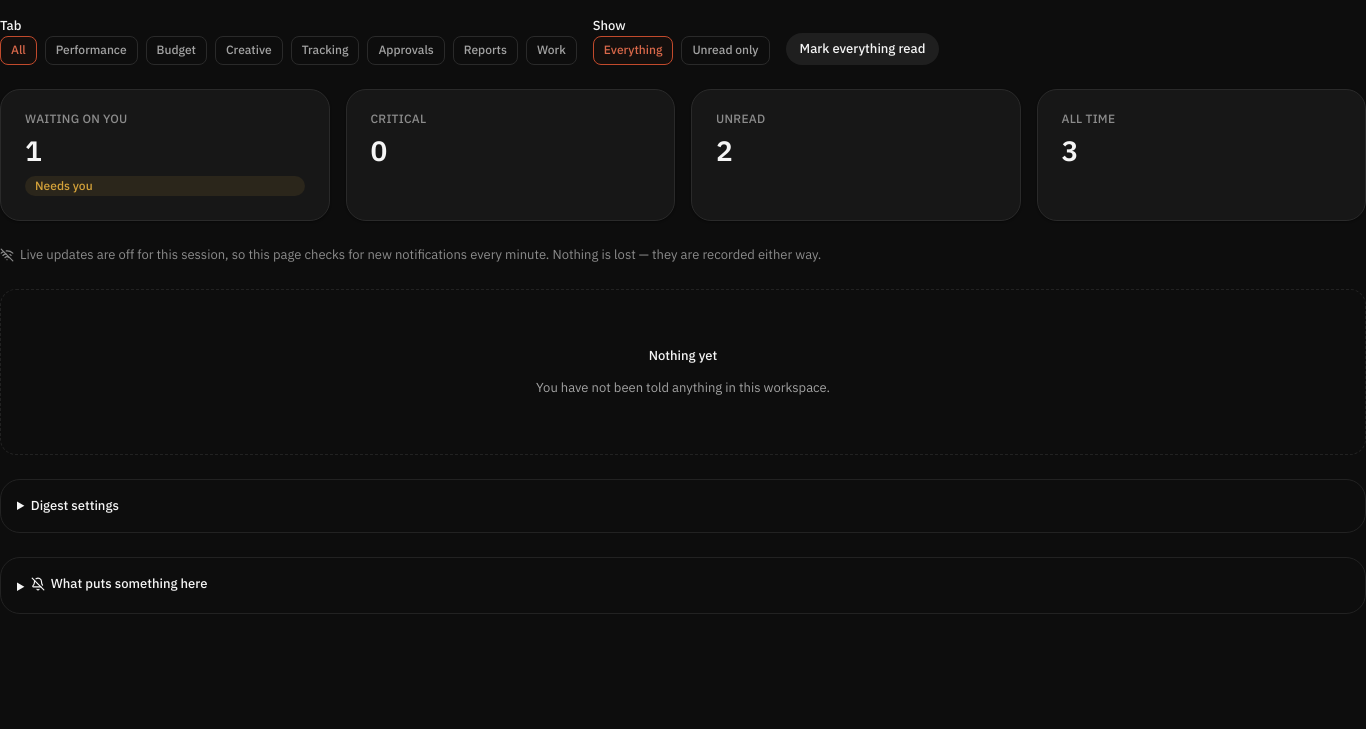
Test: the notification centre › saves digest settings, and says which channels are still waiting on a credential
Expected: the element named "Notification summary" is shown, x1=0 y1=89 x2=1365 y2=221
Click the heading "Digest settings" at [75, 506], box x1=31 y1=496 x2=119 y2=515
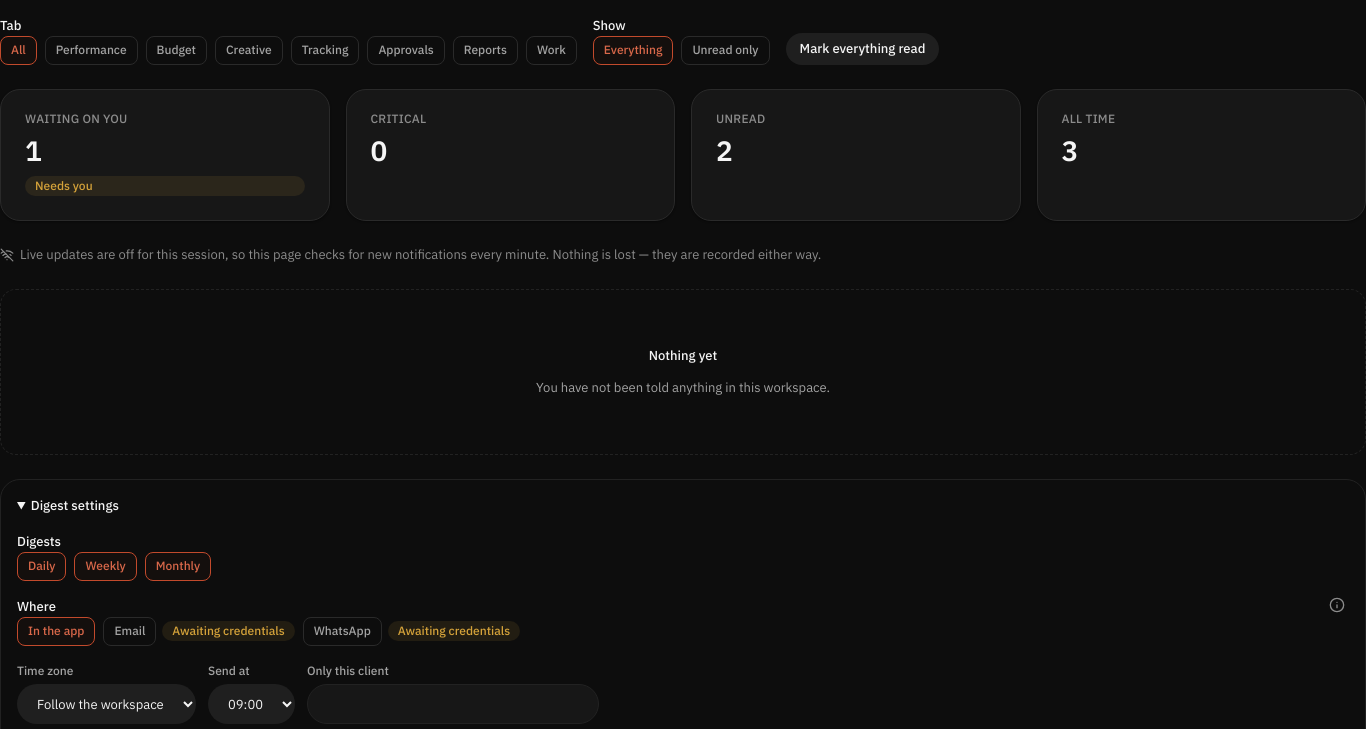
Result: the text "Awaiting credentials" is shown 2 times at x1=162 y1=621 x2=295 y2=641; x1=388 y1=621 x2=520 y2=641
Click the button "Weekly" at [106, 567], box x1=74 y1=552 x2=137 y2=581
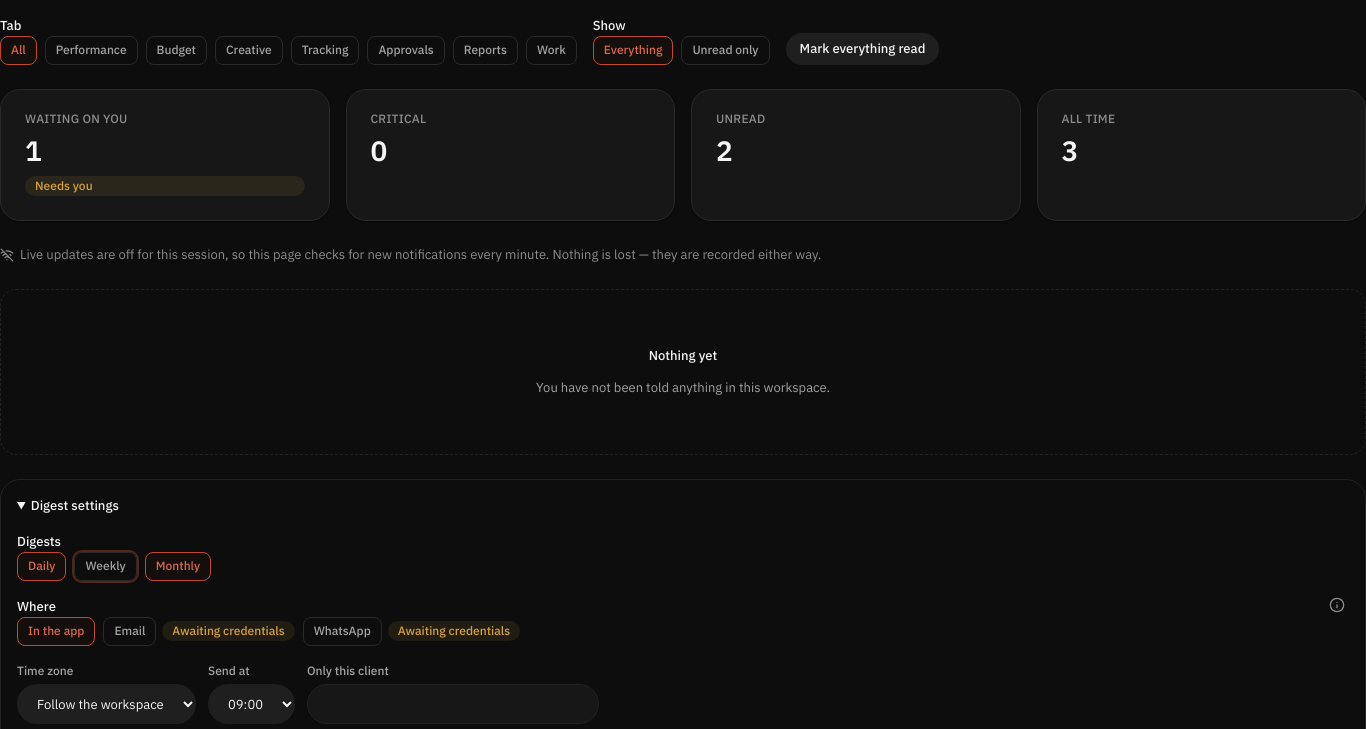
Select "07:00" in the dropdown labelled "Send at" at [252, 704], box x1=208 y1=684 x2=295 y2=724
(page scrolled)
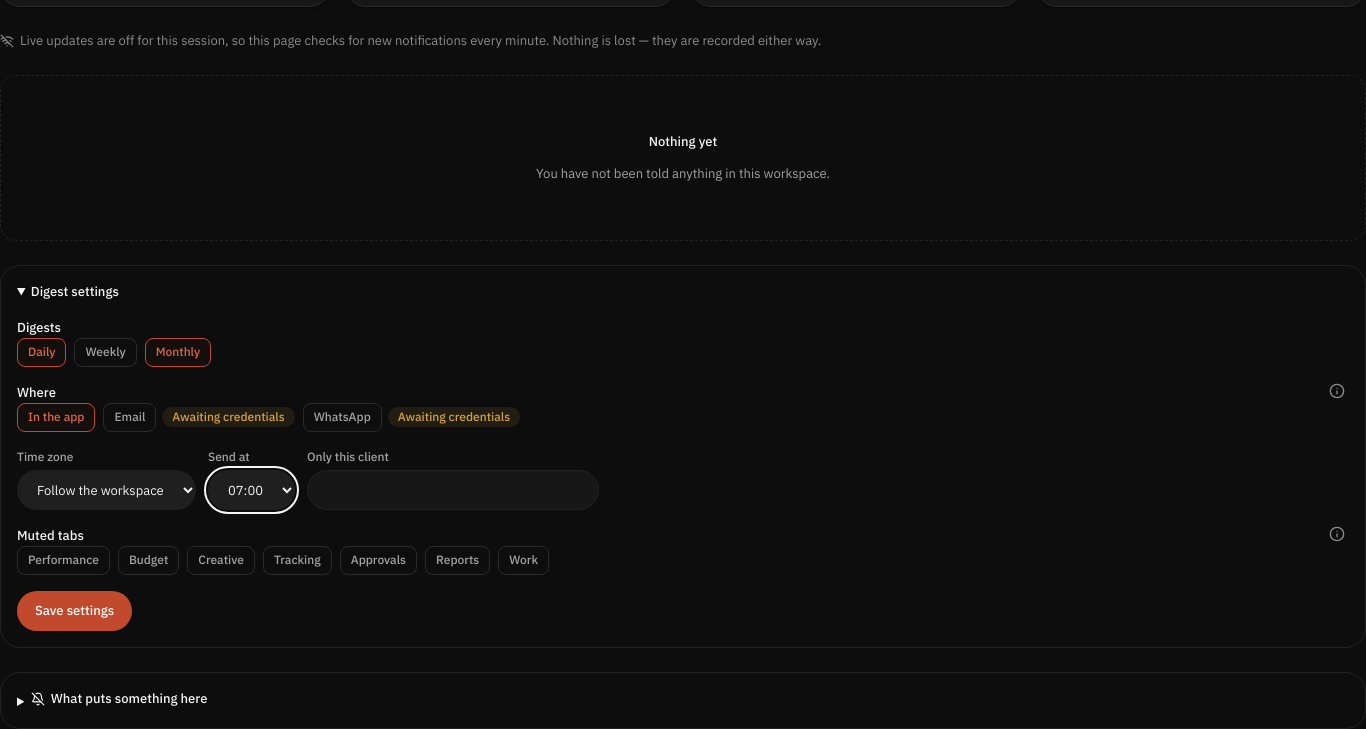
Click the button "Save settings" at [75, 611], box x1=17 y1=591 x2=132 y2=631
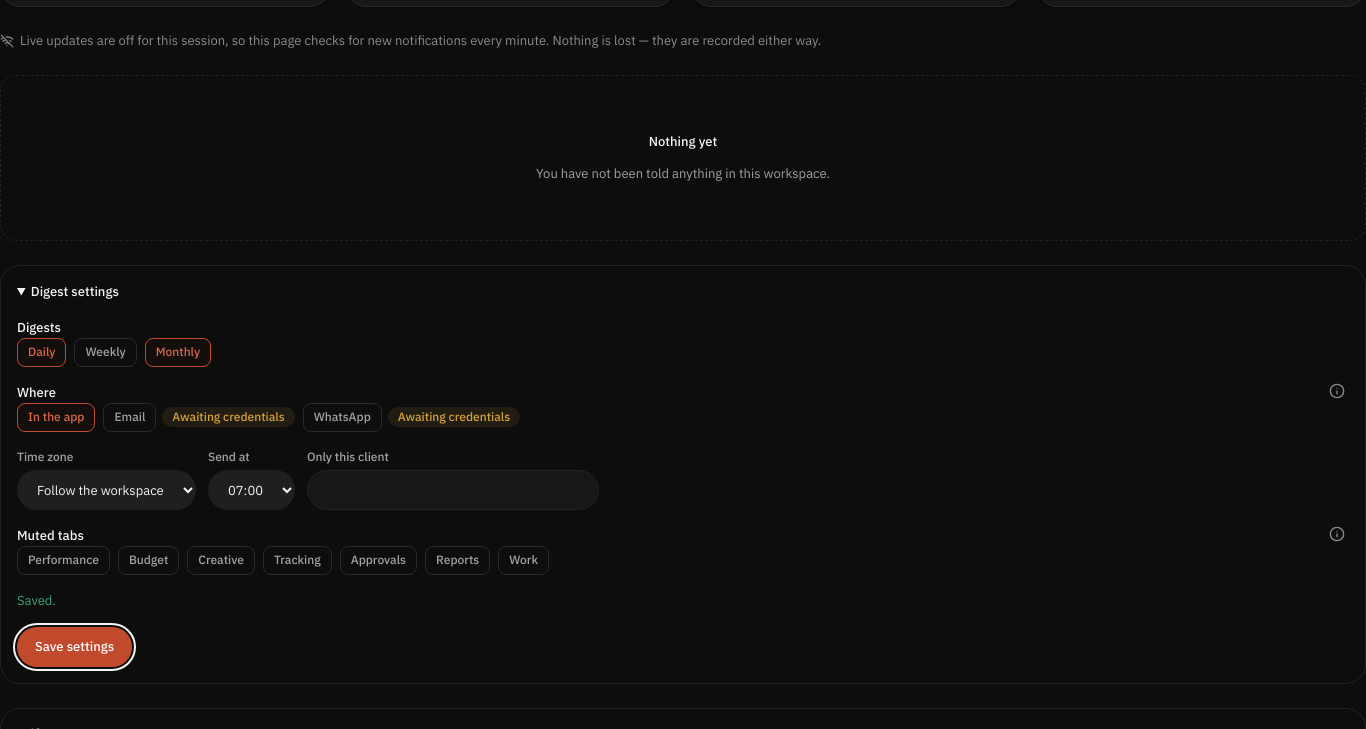
Result: the text "Saved." is shown at x1=17 y1=591 x2=56 y2=610
